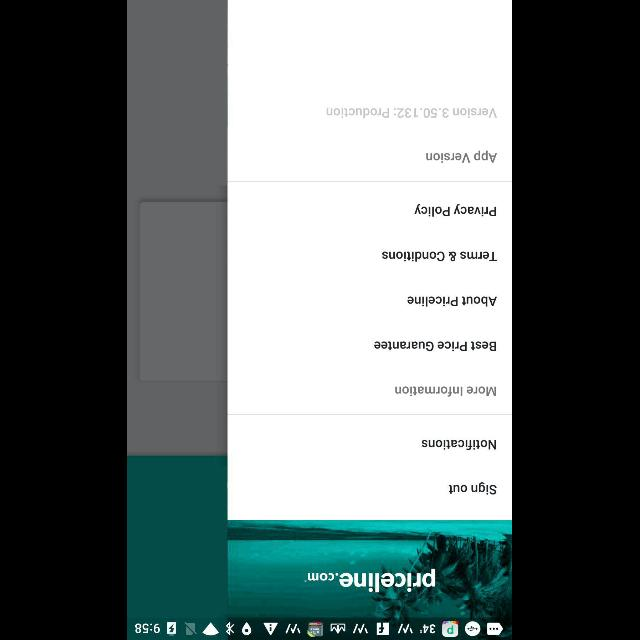image: (230, 520, 512, 618), (306, 568, 436, 592)
panel: (228, 0, 512, 618)
text: (328, 108, 498, 119), (375, 341, 497, 352), (382, 252, 498, 262), (395, 386, 497, 396), (415, 204, 497, 216), (427, 150, 498, 163), (408, 296, 498, 306), (422, 440, 498, 450), (449, 482, 497, 494)
uppertaskbar: (128, 617, 512, 639)
